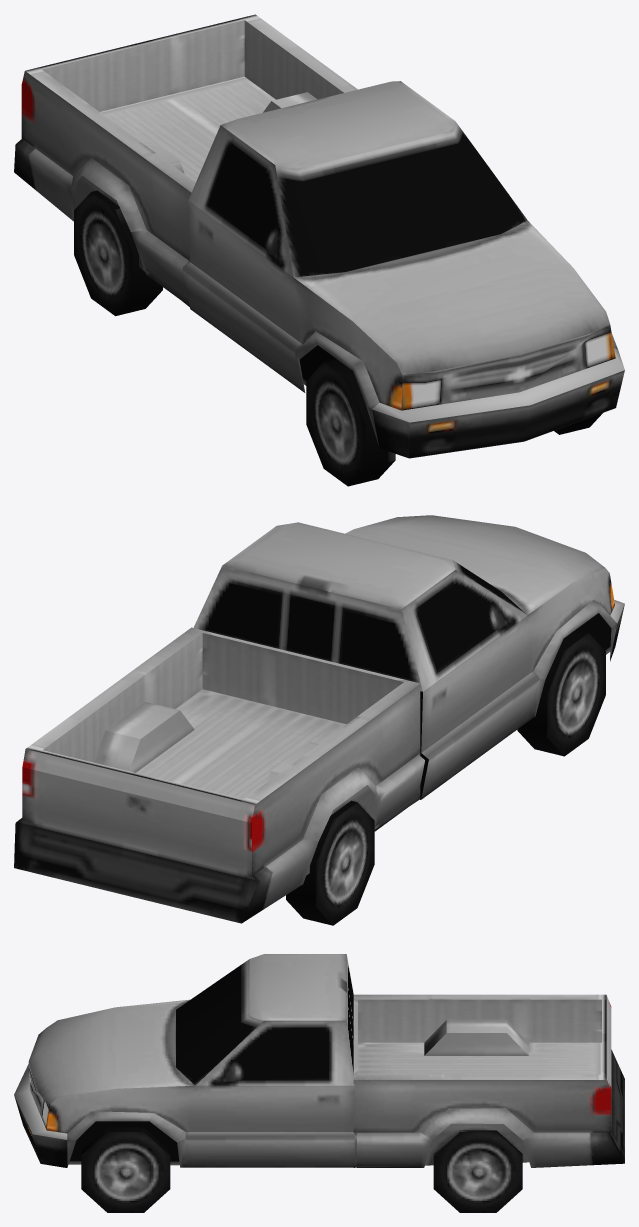
File: Car_ChevyBlazer.fbx
The picture shows the model from 3 angles, top to bottom: view 1: azimuth 30°, elevation 25°; view 2: azimuth 150°, elevation 25°; view 3: azimuth 270°, elevation 25°; orthographic projection. The views are drawn at different scales.
Visible parts, largest first — view 1: Car_ChevyBlazer; view 2: Car_ChevyBlazer; view 3: Car_ChevyBlazer.
Boxes of the visible parts, left/top/right/bottom form: Car_ChevyBlazer: left=14, top=14, right=624, bottom=486; Car_ChevyBlazer: left=14, top=515, right=624, bottom=925; Car_ChevyBlazer: left=14, top=954, right=624, bottom=1212.
Bounding box in the file's own units: 1.68 × 1.55 × 4.65.
